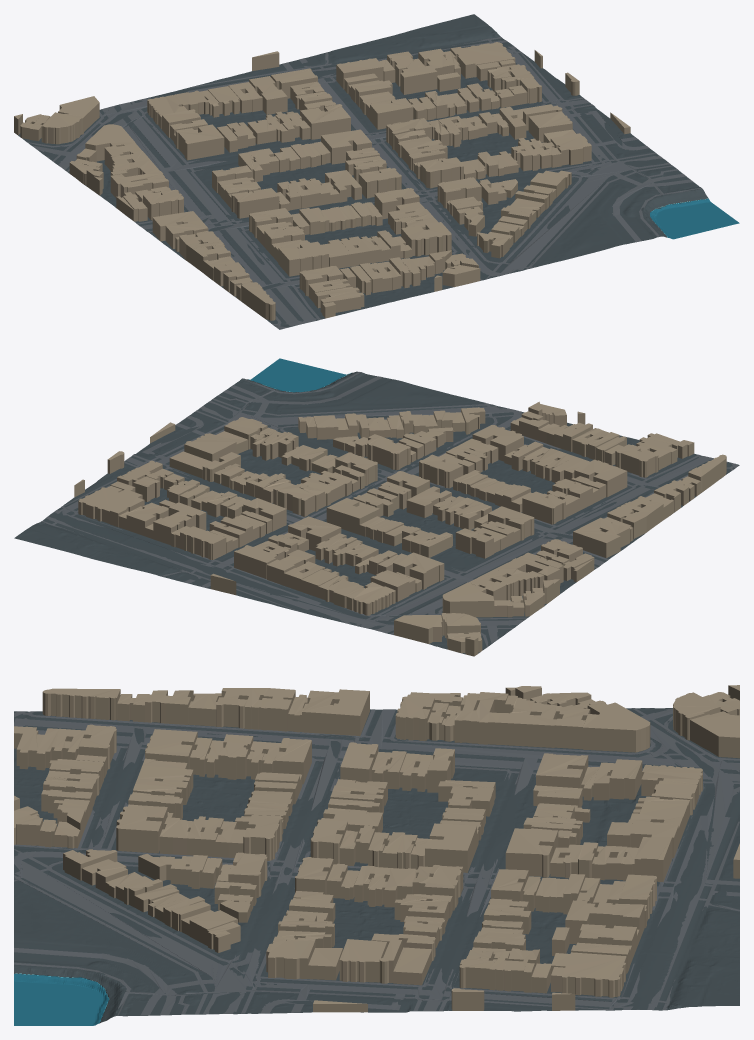
Rendered from epsg26910-1431-10896.lod0.glb.
3 views of the same model, one above another, from view 1: azimuth 30°, elevation 25°; view 2: azimuth 150°, elevation 25°; view 3: azimuth 270°, elevation 25° (orthographic). The views are drawn at different scales.
Parts seen in each view (by area): view 1: epsg26910-1431-10896-lod0; view 2: epsg26910-1431-10896-lod0; view 3: epsg26910-1431-10896-lod0.
Boxes of the visible parts, x1,y1,x2,y2 form: epsg26910-1431-10896-lod0: (14, 14, 739, 329); epsg26910-1431-10896-lod0: (14, 358, 739, 656); epsg26910-1431-10896-lod0: (14, 685, 739, 1025).
Bounding box in the file's own units: 384 × 23.28 × 384.
